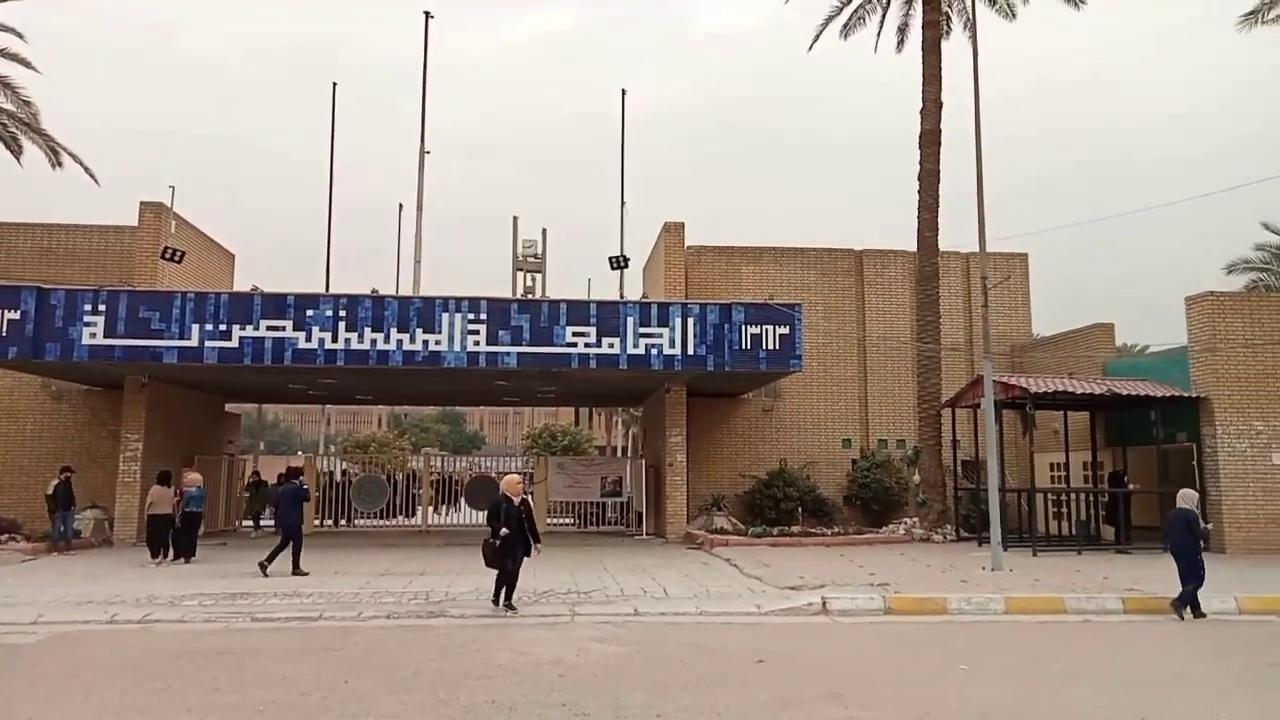person: (484, 473, 542, 612), (1161, 487, 1212, 621), (256, 465, 311, 577), (143, 469, 176, 566), (172, 471, 205, 564), (45, 464, 77, 556), (1105, 467, 1139, 553), (243, 469, 268, 538)
tree: (800, 0, 1086, 535), (941, 0, 1085, 561), (0, 0, 101, 188), (1220, 0, 1279, 294), (518, 419, 598, 530), (734, 457, 833, 528), (839, 444, 917, 527), (954, 455, 1029, 537), (1220, 218, 1279, 293), (401, 407, 486, 456), (519, 419, 598, 457), (237, 403, 280, 470), (691, 490, 740, 533), (1234, 0, 1279, 34)
